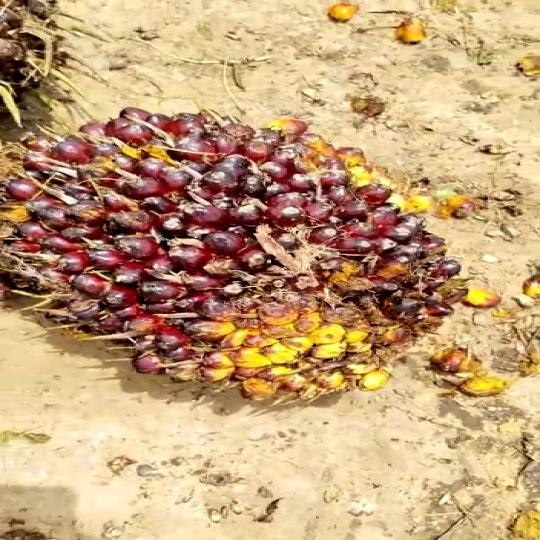kurang masak: (1, 104, 454, 410)
